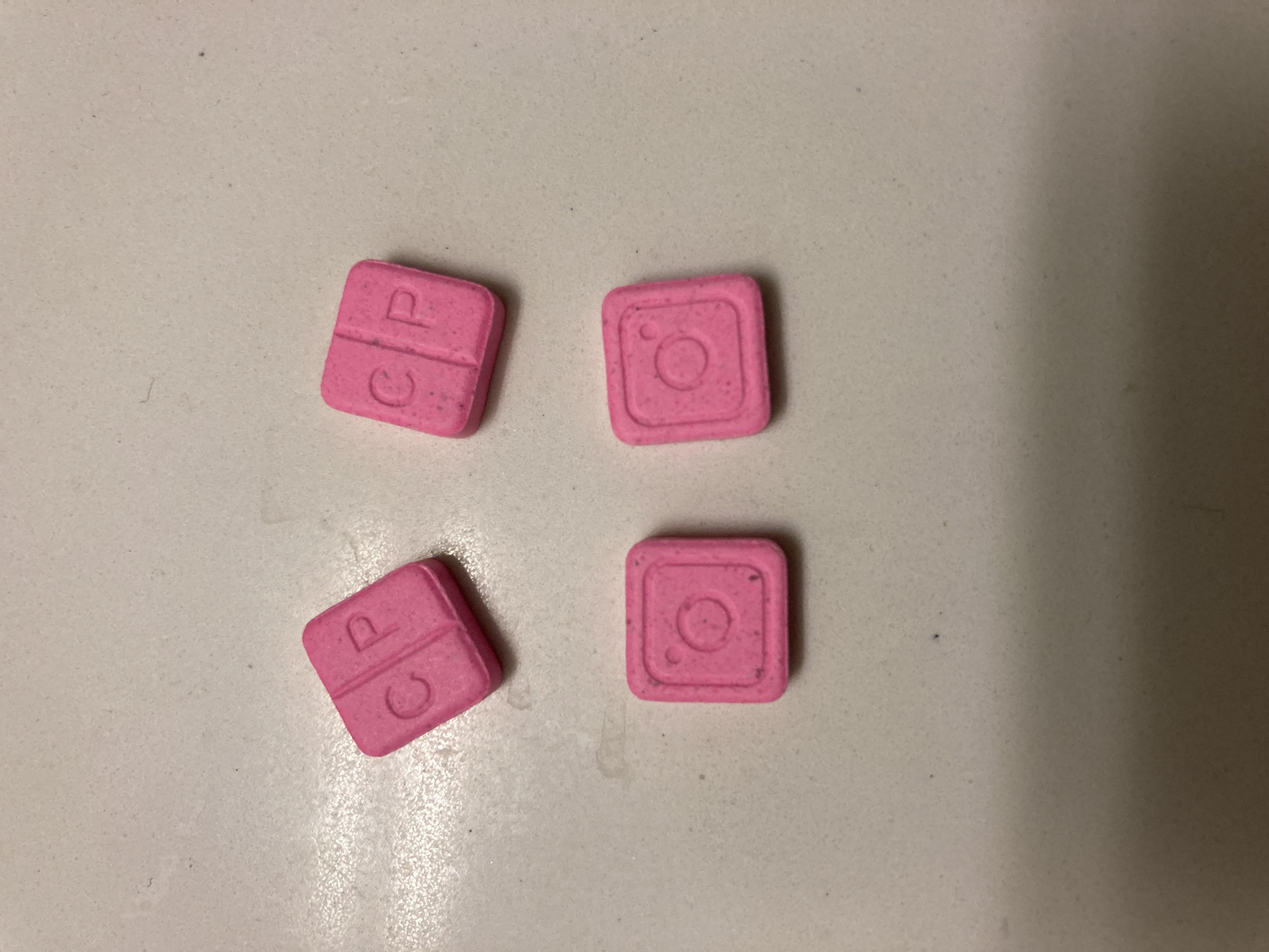Square: (301, 556, 506, 756), (320, 260, 508, 440), (599, 274, 769, 447), (622, 538, 785, 704)
